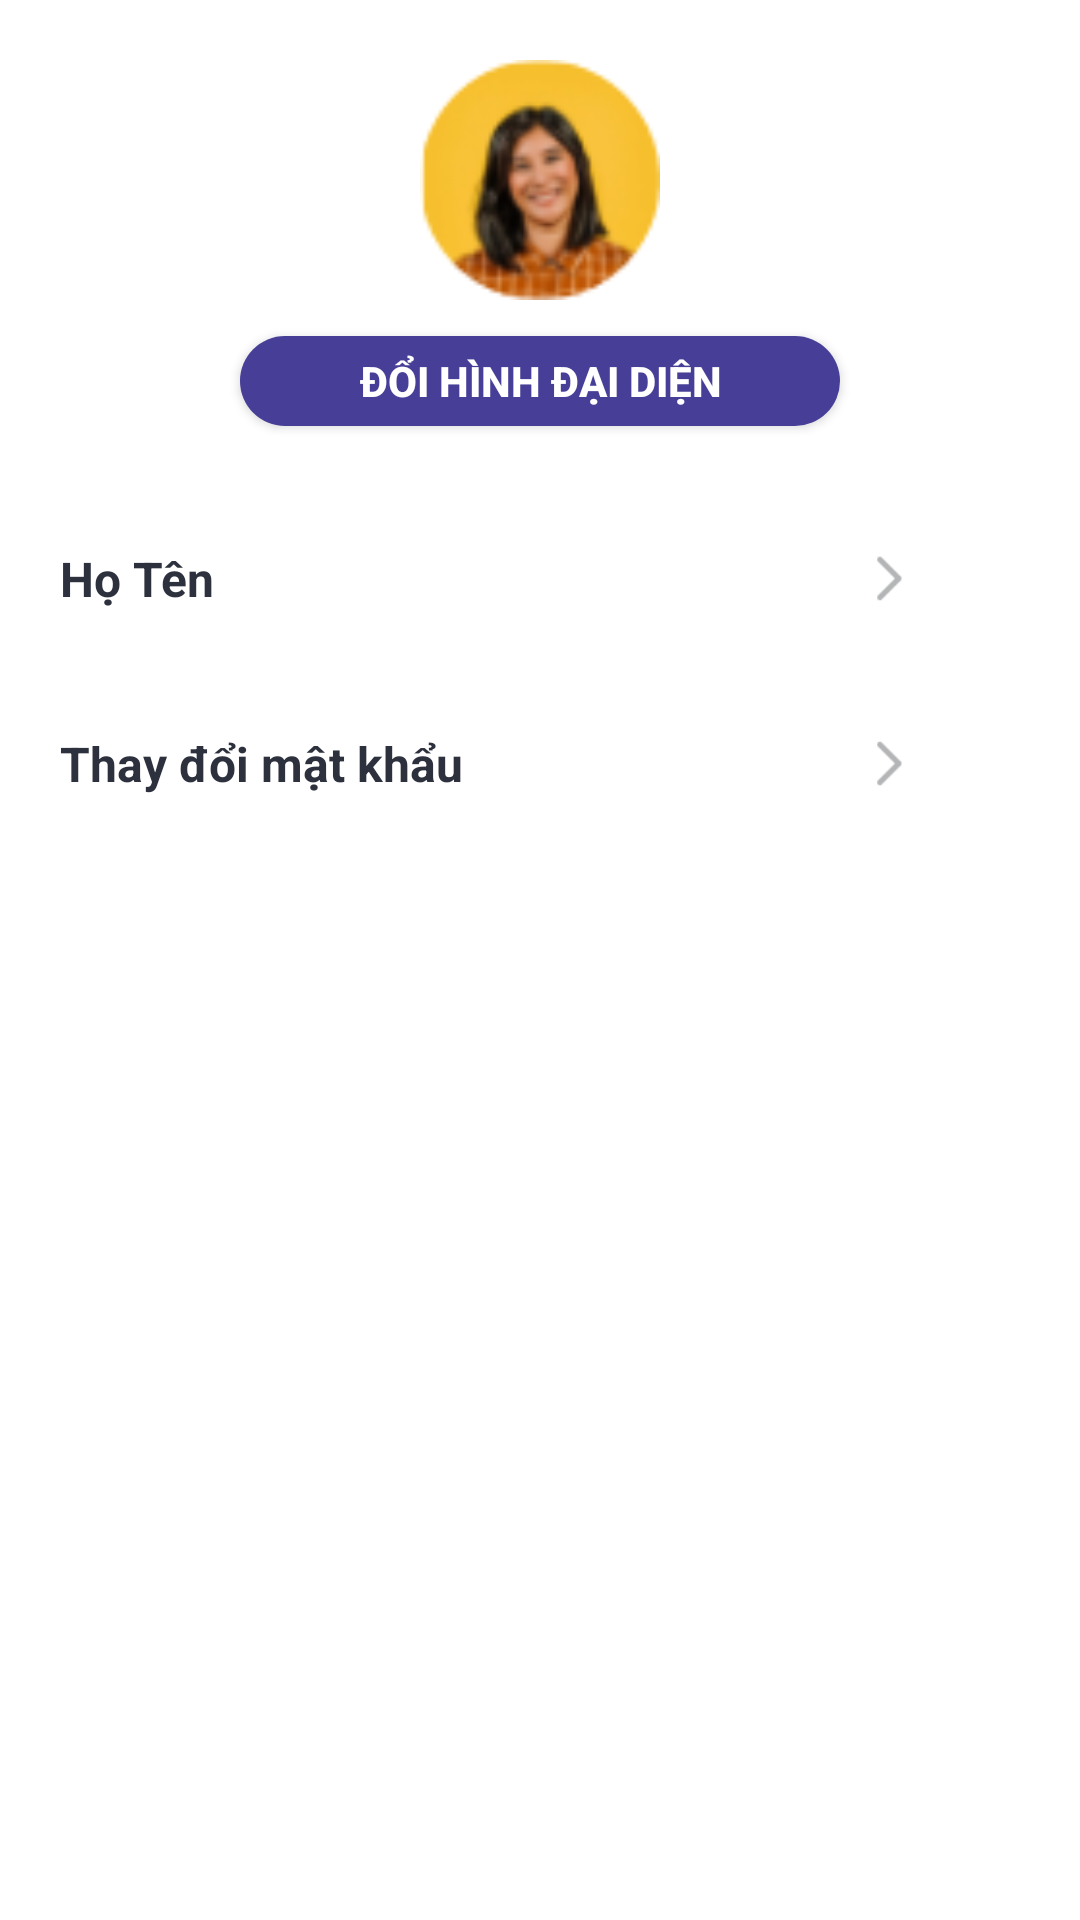

Screen size 1080px x 1920px. Icon name, then its center in pixels as (x,y):
arrow right: (889,578), (889,763)
